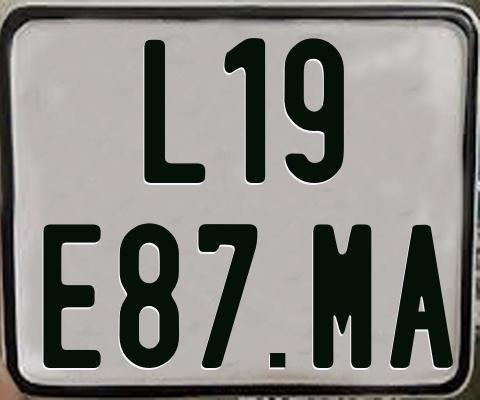1: (222, 35, 269, 185)
7: (198, 221, 264, 370)
8: (116, 223, 181, 373)
9: (281, 38, 346, 183)
A: (388, 223, 453, 369)
E: (40, 221, 100, 370)
L: (141, 37, 206, 183)
M: (310, 224, 374, 368)
